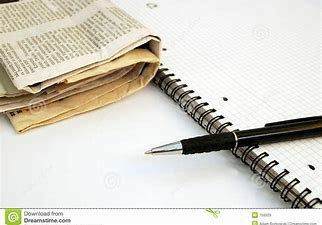pen: (141, 114, 322, 159)
